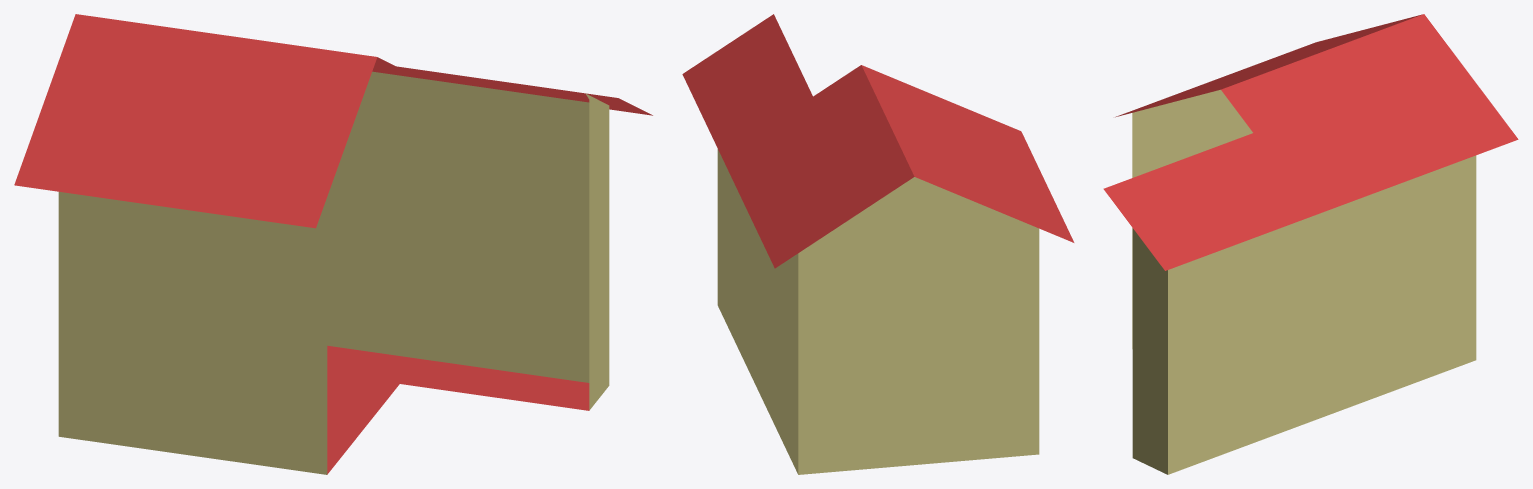
The picture shows the model from 3 angles, left to right: view 1: azimuth 30°, elevation 25°; view 2: azimuth 150°, elevation 25°; view 3: azimuth 270°, elevation 25°; orthographic projection. The views are drawn at different scales.
Bounding box in the file's own units: 13.53 × 10.38 × 8.33.
